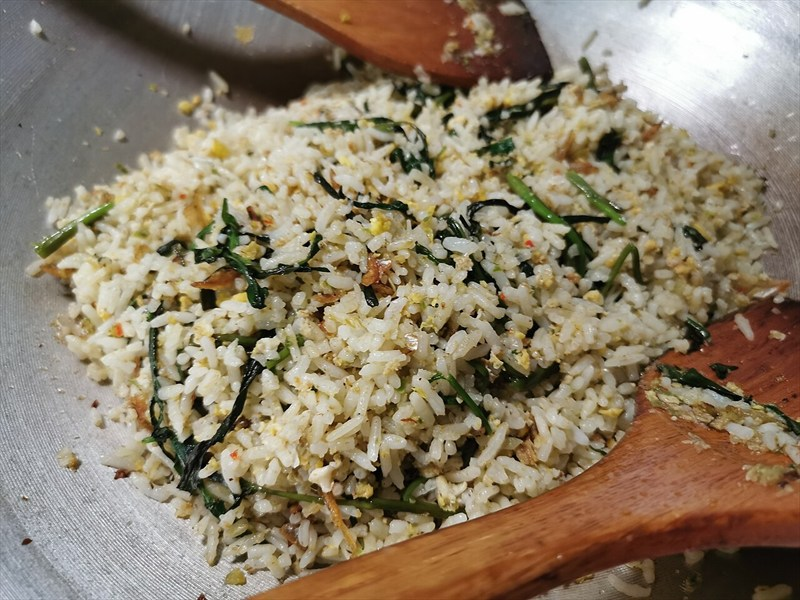Nasi Goreng: (117, 79, 643, 521)
